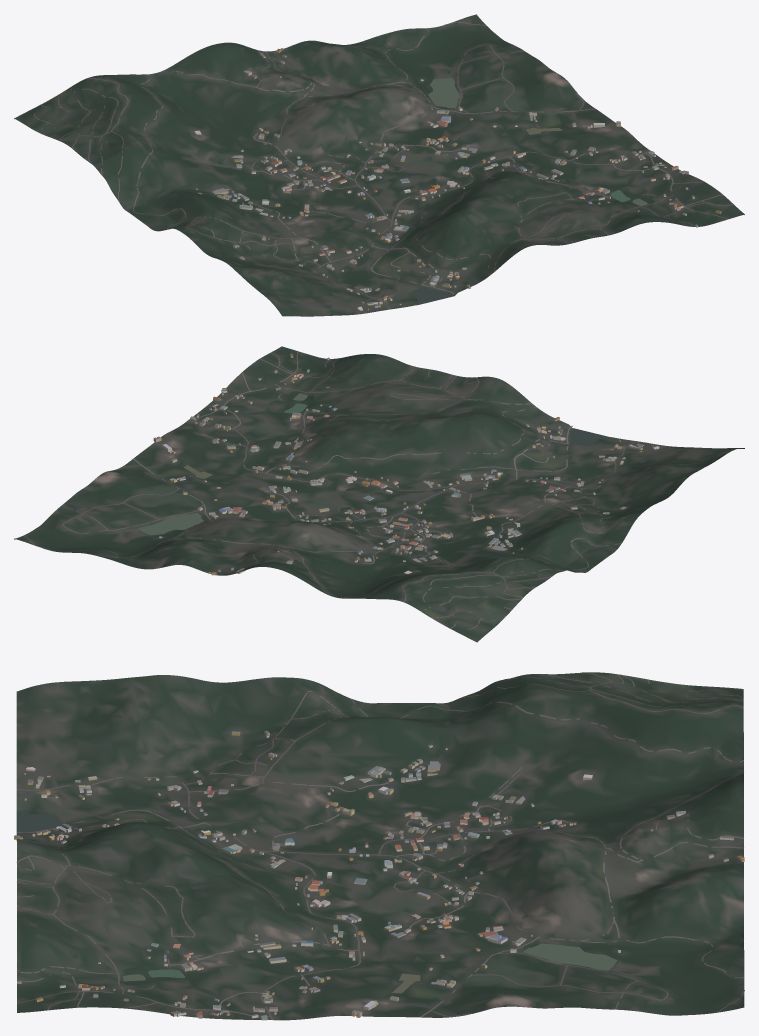
The picture shows the model from 3 angles, top to bottom: view 1: azimuth 30°, elevation 25°; view 2: azimuth 150°, elevation 25°; view 3: azimuth 270°, elevation 25°; orthographic projection. The views are drawn at different scales.
Visible parts, largest first — view 1: ground, buildings, roads, water; view 2: ground, buildings, roads, water; view 3: ground, buildings, roads, water.
Boxes of the visible parts, x1=… form: ground: x1=14, y1=14, x2=744, y2=316; buildings: x1=194, y1=48, x2=721, y2=310; roads: x1=34, y1=22, x2=733, y2=309; water: x1=409, y1=78, x2=648, y2=304; ground: x1=14, y1=346, x2=744, y2=642; buildings: x1=153, y1=353, x2=659, y2=575; roads: x1=23, y1=351, x2=636, y2=629; water: x1=138, y1=393, x2=608, y2=535; ground: x1=16, y1=672, x2=744, y2=1020; buildings: x1=14, y1=730, x2=744, y2=1020; roads: x1=16, y1=672, x2=744, y2=1019; water: x1=17, y1=811, x2=617, y2=993.
Size of the model in its own units: 1405 by 145 by 1409.
